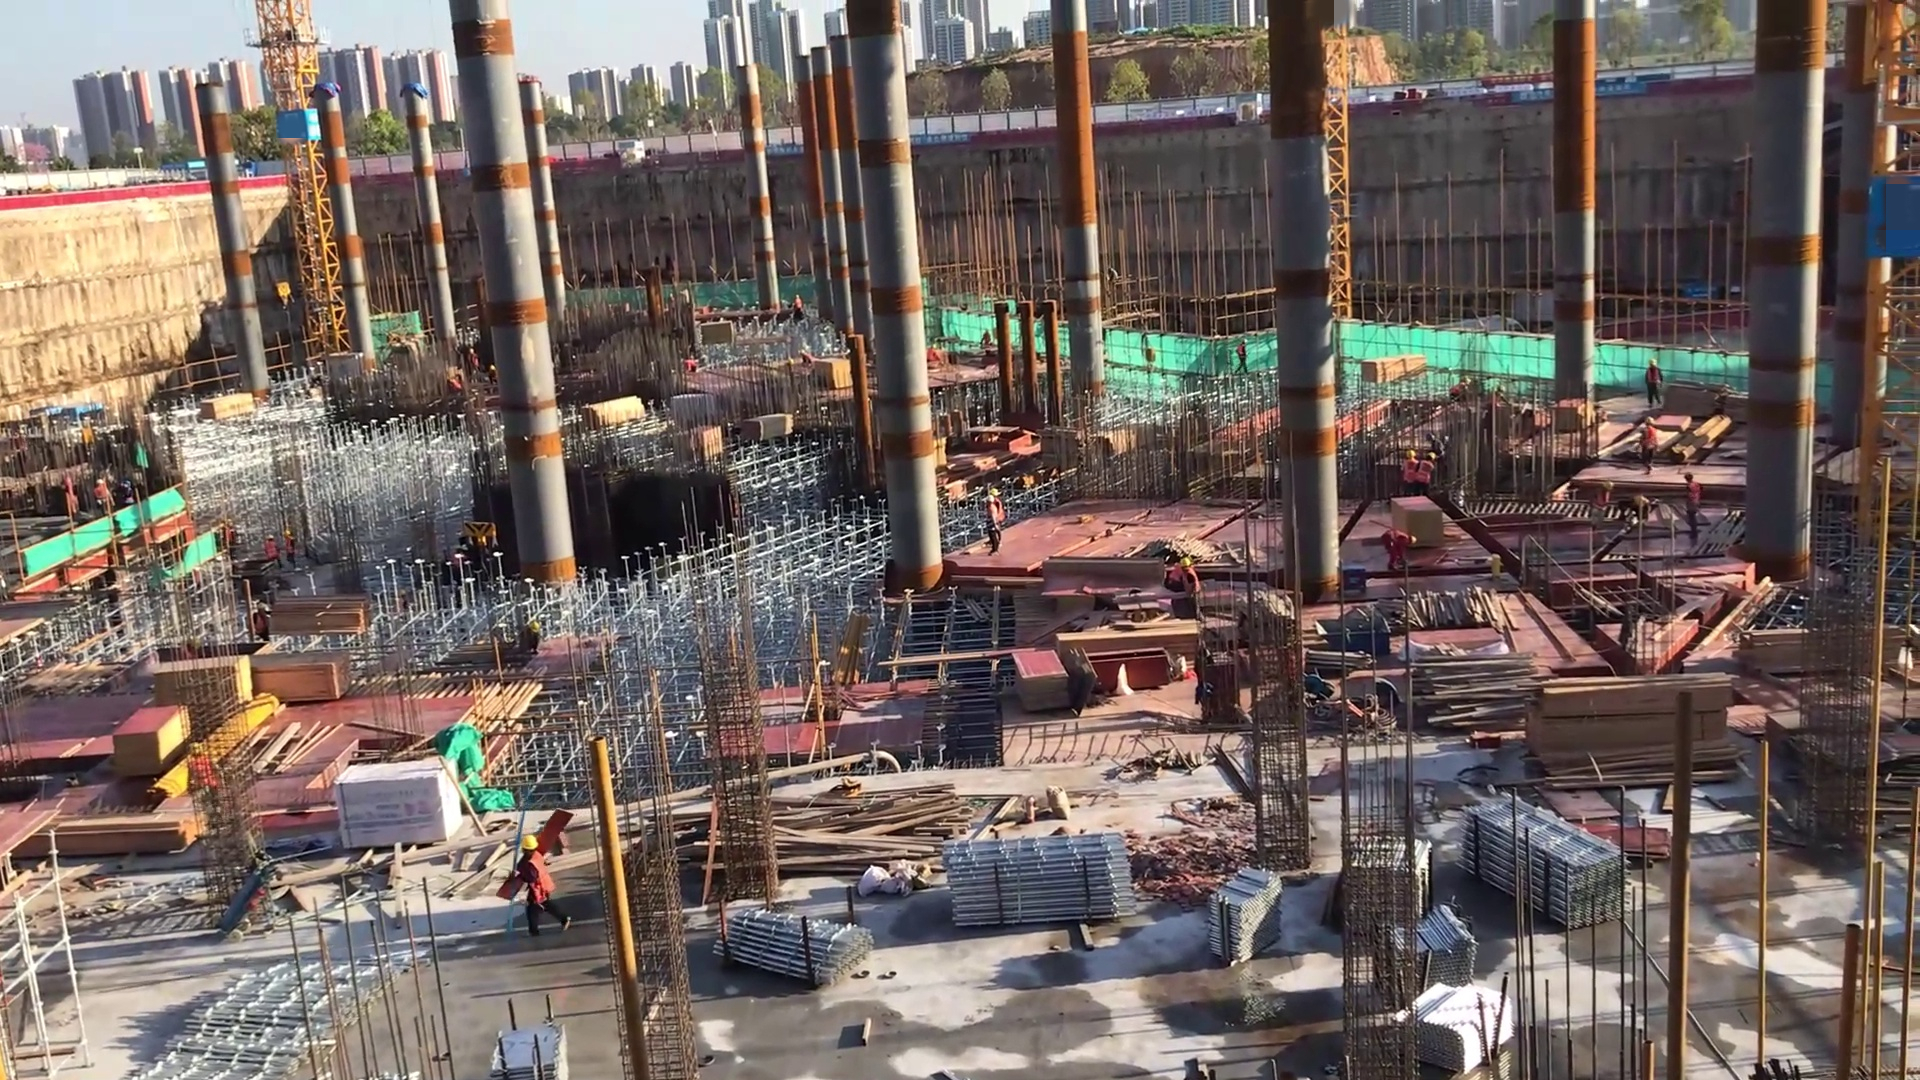helmet: (520, 833, 538, 851), (1178, 555, 1194, 568), (1405, 449, 1417, 461), (1409, 533, 1419, 549), (1426, 449, 1437, 461), (255, 600, 267, 612), (1649, 355, 1659, 368), (1643, 415, 1657, 425), (989, 485, 999, 496), (265, 533, 275, 541), (1242, 336, 1251, 344), (987, 495, 994, 503), (97, 478, 104, 486)
person: (510, 830, 573, 939), (1174, 556, 1209, 623), (1680, 467, 1708, 545), (1637, 416, 1662, 484), (1380, 529, 1416, 574), (1643, 350, 1668, 409), (1415, 449, 1440, 502), (248, 599, 274, 648), (984, 495, 1002, 560), (990, 484, 1009, 548), (1398, 446, 1416, 501), (1233, 336, 1255, 377), (92, 478, 113, 518), (284, 530, 301, 575), (266, 533, 283, 572), (119, 480, 139, 513), (926, 337, 941, 372), (466, 346, 480, 378), (800, 345, 815, 370), (792, 292, 805, 320), (488, 362, 502, 386)
vest: (518, 849, 556, 910), (1180, 568, 1202, 598), (1387, 528, 1408, 555), (1687, 483, 1702, 520), (1417, 459, 1433, 491), (1643, 426, 1658, 456), (253, 612, 272, 636), (1405, 459, 1417, 485), (265, 539, 278, 564), (1645, 369, 1662, 388), (95, 485, 109, 505), (284, 537, 297, 558)
